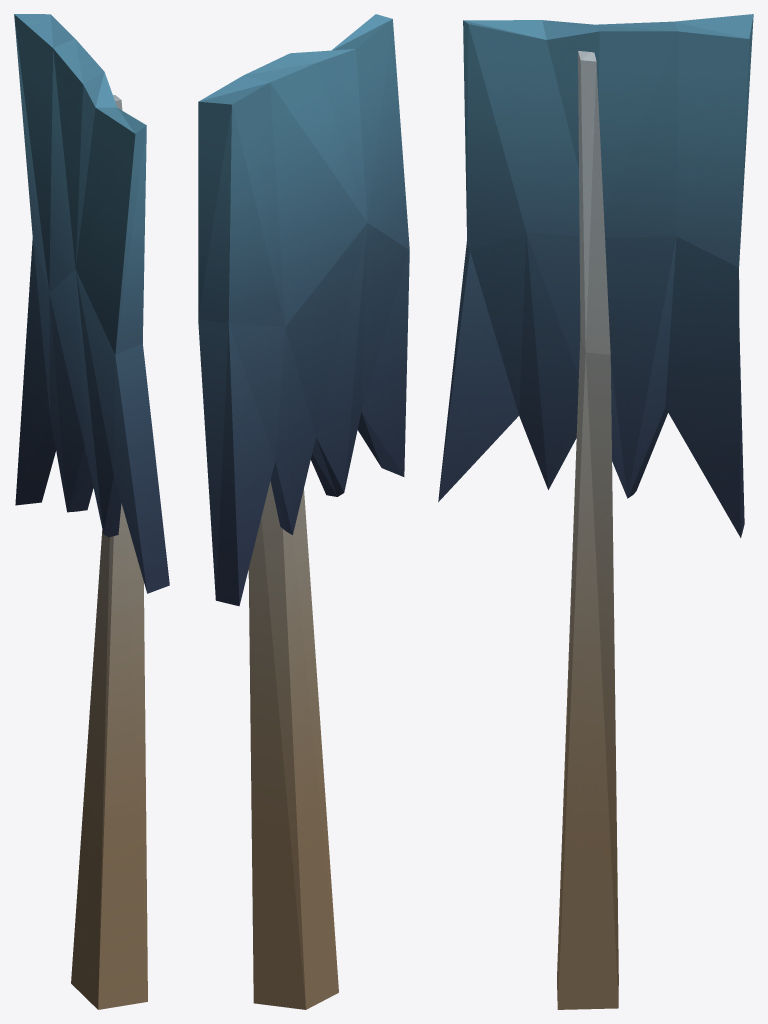
Rendered from blueTowerFlag_mdl.FBX.
3 views of the same model, side by side, from view 1: azimuth 30°, elevation 25°; view 2: azimuth 150°, elevation 25°; view 3: azimuth 270°, elevation 25° (orthographic). The views are drawn at different scales.
Parts seen in each view (by area): view 1: blueTowerFlag_mdl; view 2: blueTowerFlag_mdl; view 3: blueTowerFlag_mdl.
Part boxes in pixels (x1=…): blueTowerFlag_mdl: x1=14, y1=14, x2=169, y2=1009; blueTowerFlag_mdl: x1=198, y1=14, x2=409, y2=1009; blueTowerFlag_mdl: x1=438, y1=14, x2=753, y2=1009.
Size of the model in its own units: 3.68 by 36.39 by 10.67.
1 material, 1 textured.
